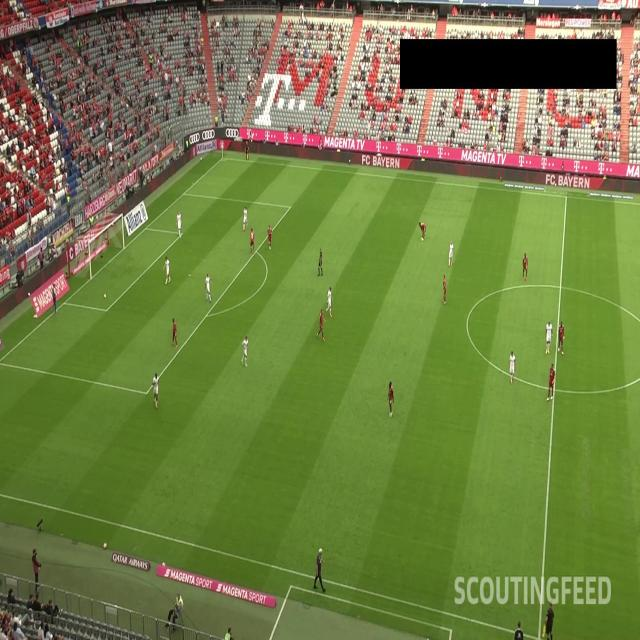ball: (102, 291, 108, 301)
player: (544, 359, 556, 405), (315, 306, 328, 341), (151, 371, 161, 411), (556, 316, 566, 356), (386, 379, 396, 418), (50, 281, 60, 317), (240, 333, 250, 369), (324, 285, 334, 319), (507, 350, 517, 384), (415, 216, 428, 241), (204, 271, 214, 303), (544, 318, 552, 357), (520, 249, 529, 283), (162, 254, 172, 284), (170, 316, 179, 349), (175, 209, 184, 241), (441, 270, 448, 307), (242, 203, 250, 233), (248, 227, 255, 256), (448, 238, 454, 268), (267, 222, 272, 250)
referee: (538, 597, 556, 640), (316, 244, 324, 278), (243, 136, 251, 165)
